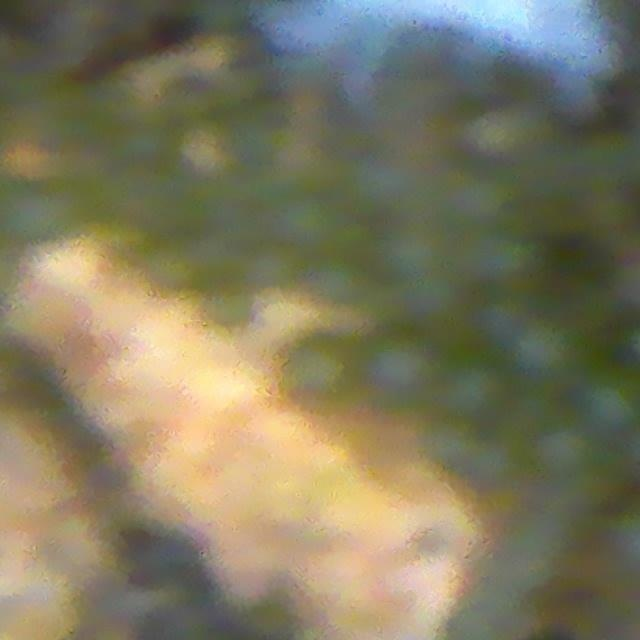SeaGrape: (278, 331, 359, 418), (360, 329, 442, 411), (509, 313, 587, 390), (437, 356, 512, 428), (575, 363, 640, 439), (533, 418, 600, 481)
